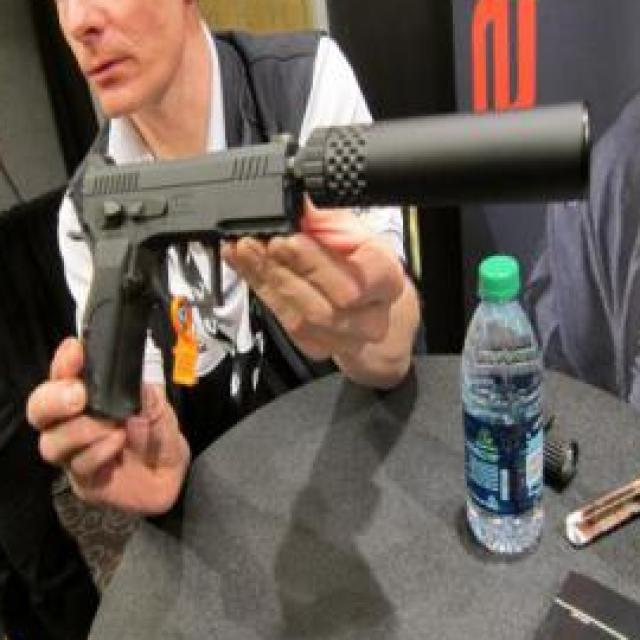pistol: (65, 137, 306, 421)
